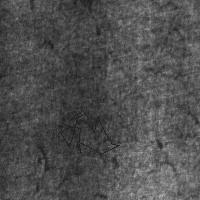crazing: (30, 121, 80, 198), (60, 110, 119, 154), (143, 25, 188, 82), (142, 135, 183, 194)
